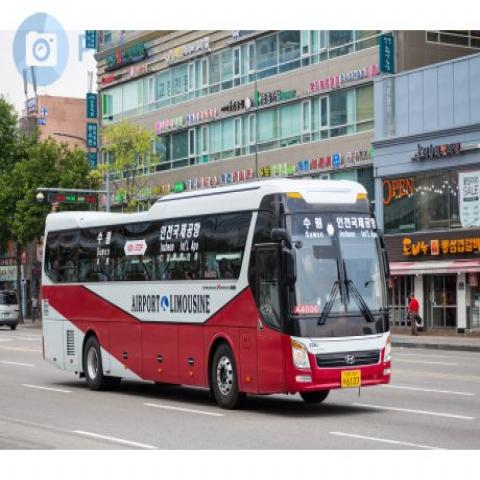LP: (340, 361, 364, 391)
